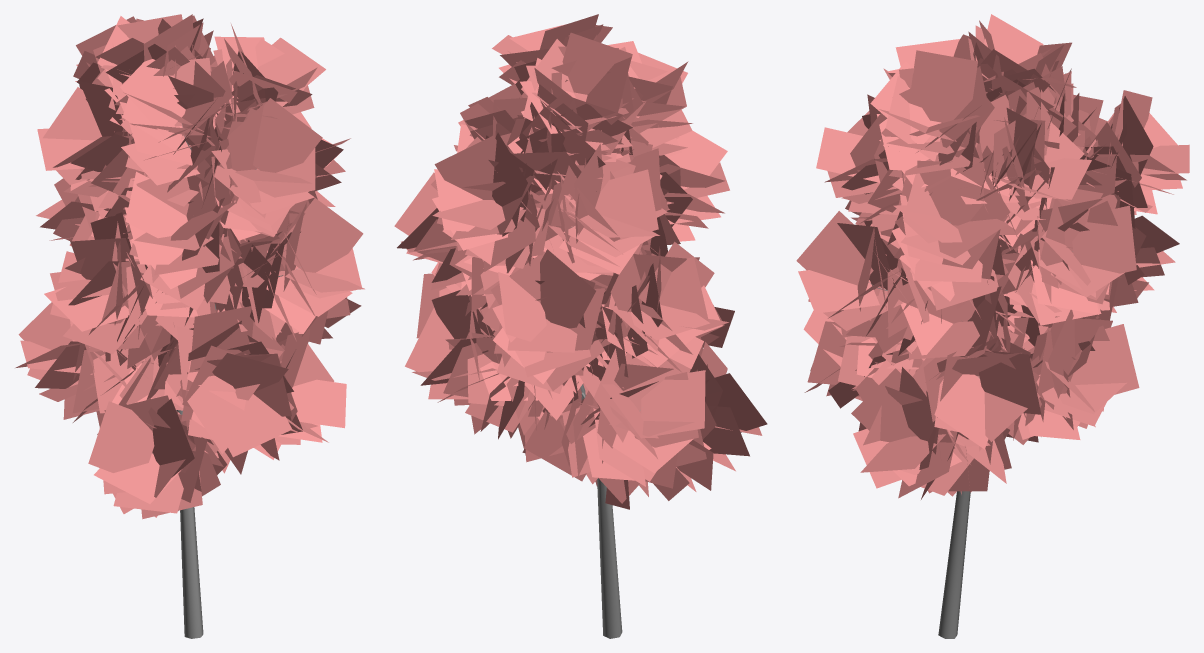
File: SM_tree3.fbx
3 views of the same model, side by side, from view 1: azimuth 30°, elevation 25°; view 2: azimuth 150°, elevation 25°; view 3: azimuth 270°, elevation 25° (orthographic).
Visible parts, largest first — view 1: SM_tree3; view 2: SM_tree3; view 3: SM_tree3.
Part boxes in pixels (x1=…): SM_tree3: x1=15, y1=14, x2=364, y2=638; SM_tree3: x1=394, y1=14, x2=767, y2=638; SM_tree3: x1=796, y1=14, x2=1189, y2=638.
Bounding box in the file's own units: 441 × 857 × 500.
